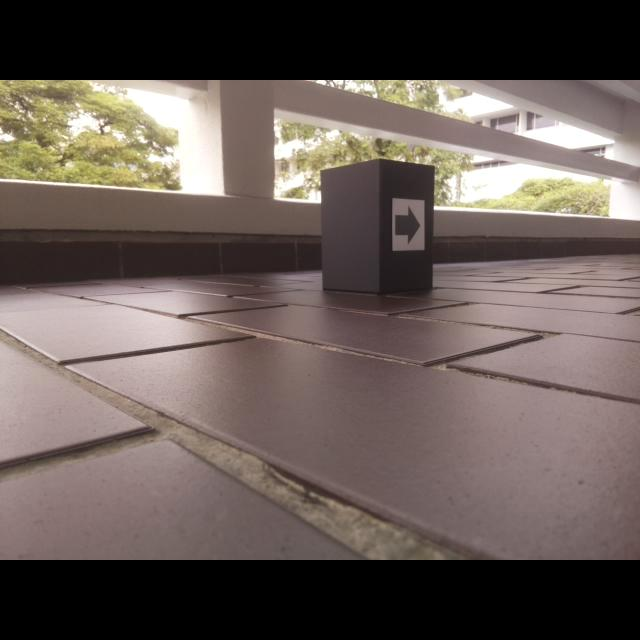RIGHT: (394, 203, 422, 247)
